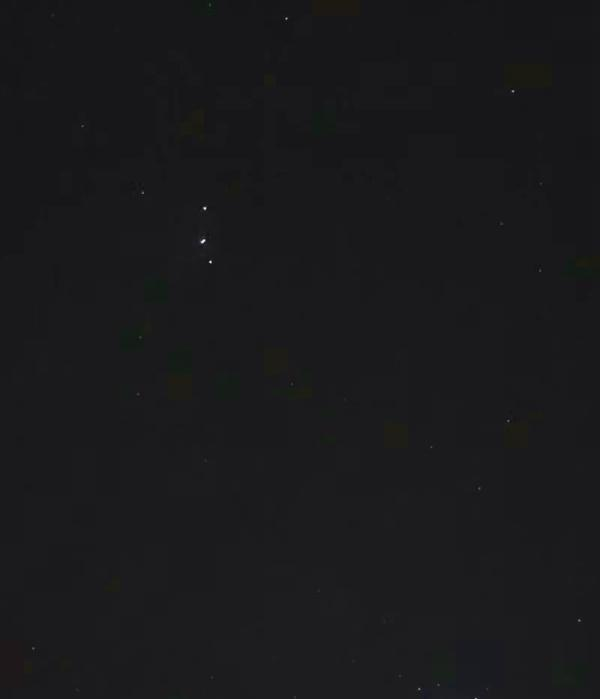Plane: (191, 182, 220, 278)
